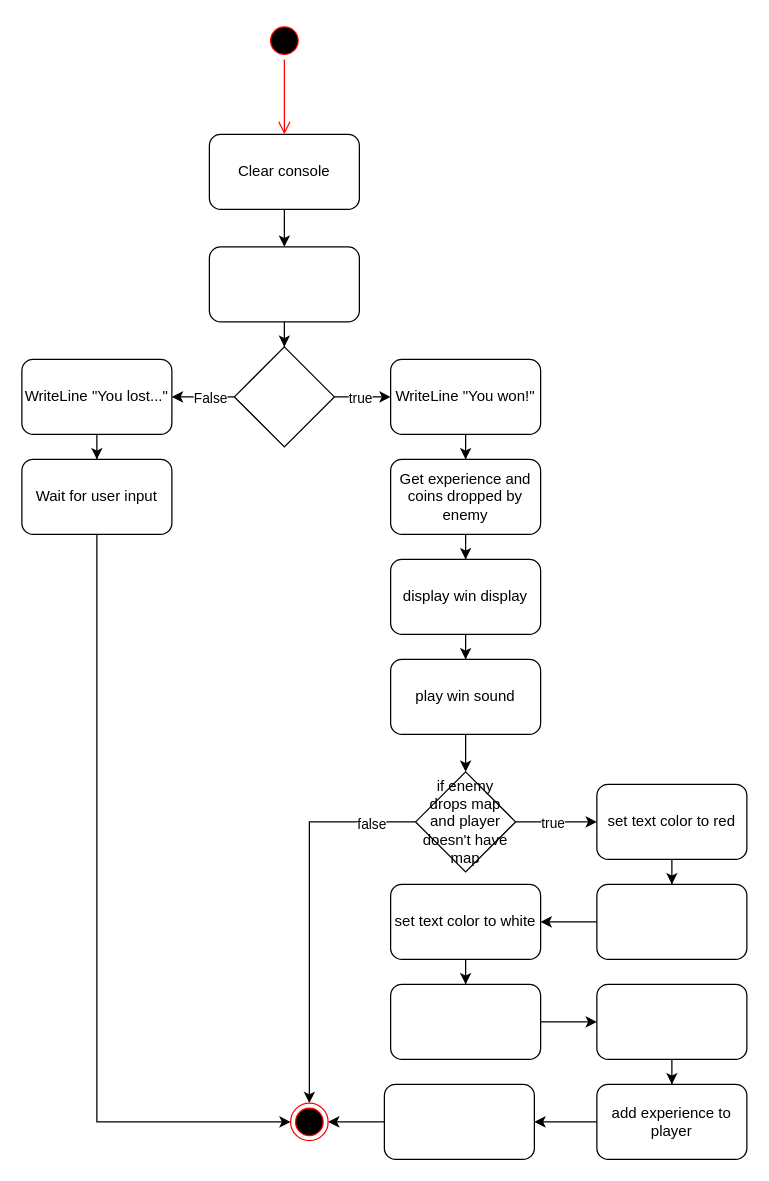
Image size: 769x1181. Some labels were removed from this diagram. Here are the shapes that lost their labels. From the top down, the centre of each, then its label:
[283,284]: check if player or enemy won
[283,396]: if player won
[671,921]: Write line "The enemt dropped a map"
[465,1021]: add map item to inventory
[671,1021]: wait for player input
[458,1121]: add coins to player
